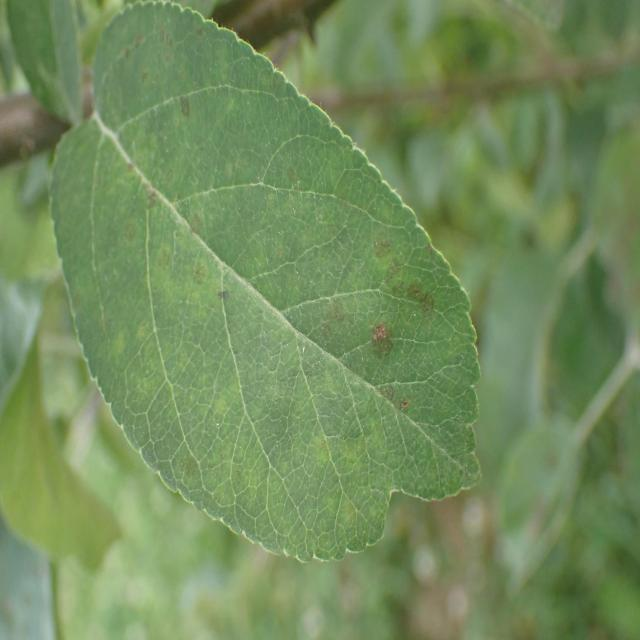scab: (97, 12, 471, 538)
